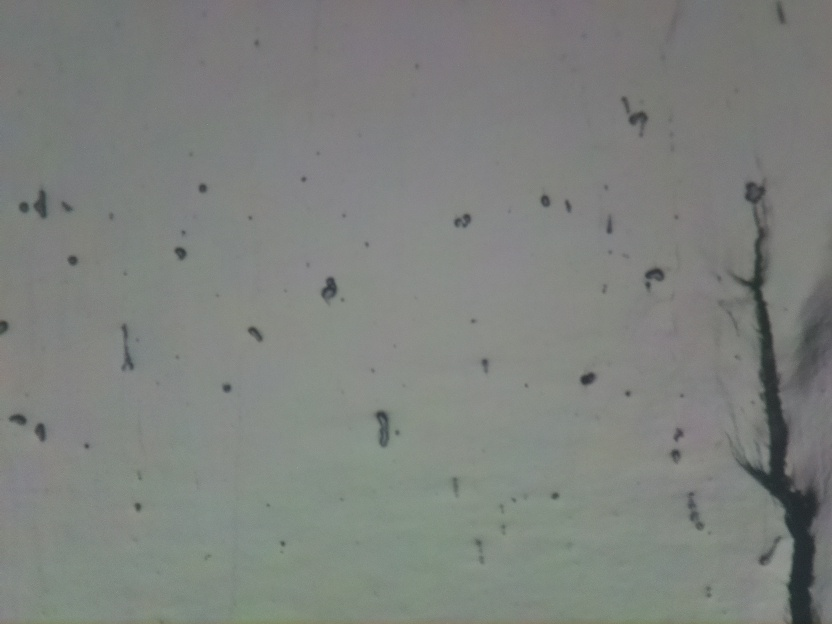crack: (726, 189, 817, 624)
